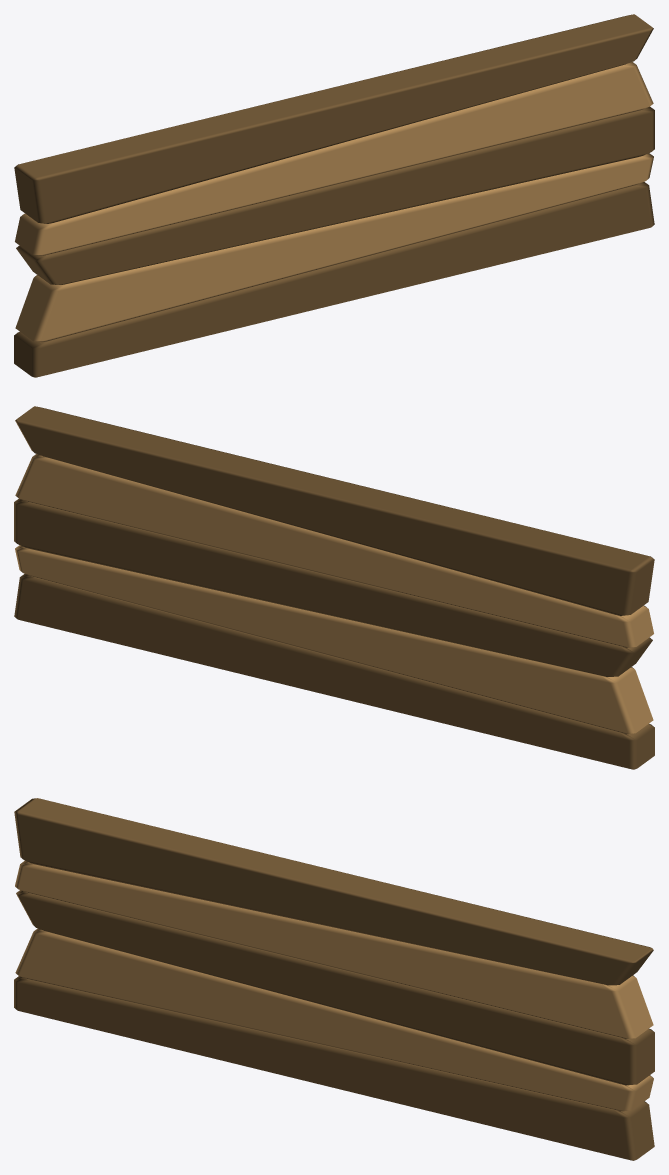
The model's file is Entity_WoodPlank.FBX.
The picture shows the model from 3 angles, top to bottom: view 1: azimuth 30°, elevation 25°; view 2: azimuth 150°, elevation 25°; view 3: azimuth 330°, elevation 25°; orthographic projection.
Visible parts, largest first — view 1: WoodPlank; view 2: WoodPlank; view 3: WoodPlank.
Boxes of the visible parts, <box> form: WoodPlank: <box>14,14,654,377</box>; WoodPlank: <box>14,406,654,769</box>; WoodPlank: <box>14,798,654,1160</box>.
Bounding box in the file's own units: 81.52 × 25 × 5.
